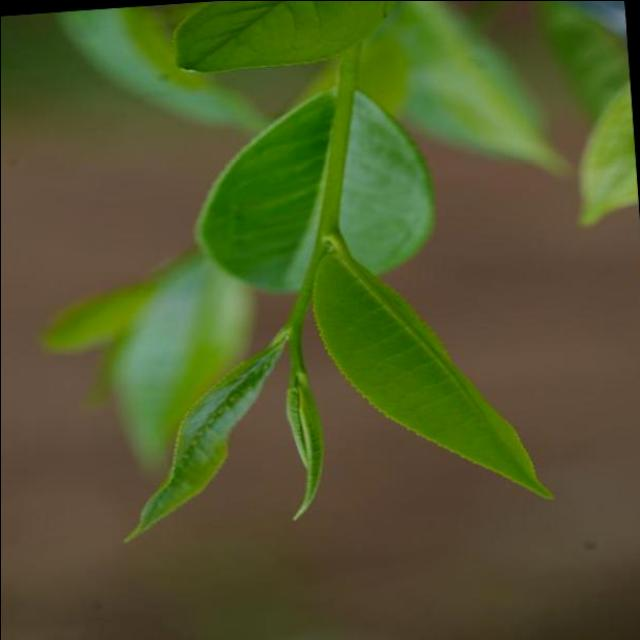Stem: (281, 306, 305, 335)
